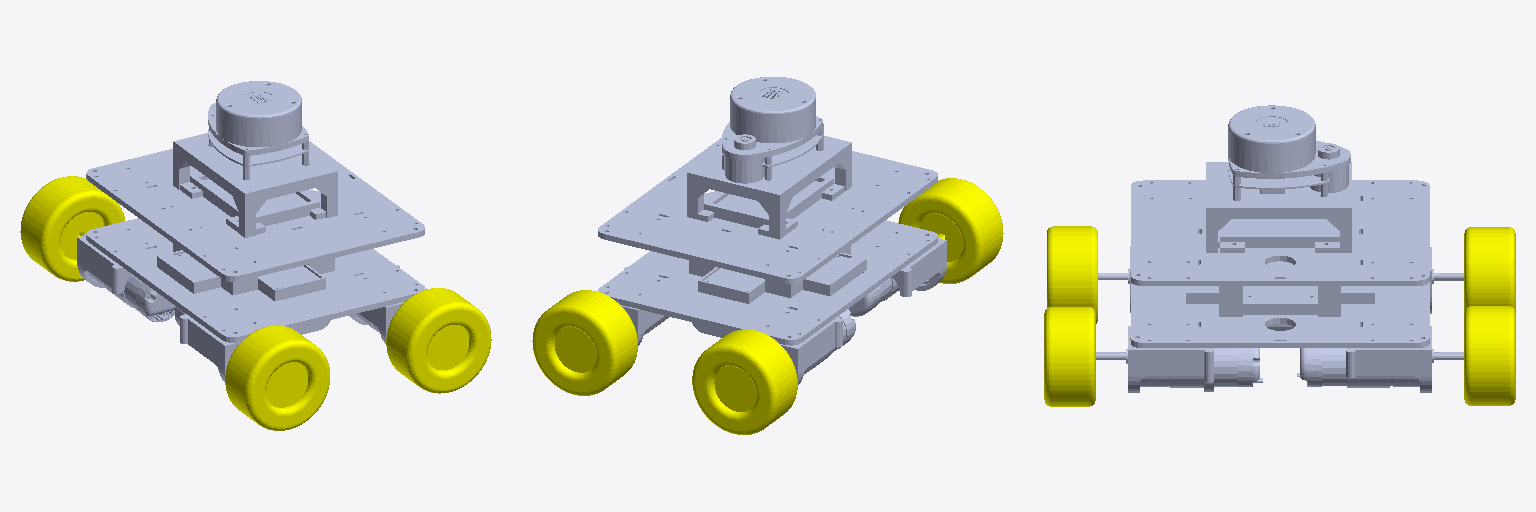
robot.urdf — assembliecarv2:
<?xml version="1.0" encoding="utf-8"?>
<!-- This URDF was automatically created by SolidWorks to URDF Exporter! Originally created by [author] ([email redacted])
     Commit Version: 1.6.0-4-g7f85cfe  Build Version: 1.6.7995.38578
     For more information, please see http://wiki.ros.org/sw_urdf_exporter -->
<robot
  name="assembliecarv2">
<link name="base_footprint">
    <visual>
        <origin xyz="0 0 0" rpy="0 0 0" />
        <geometry>
            <box size="0.001 0.001 0.001" />
        </geometry>
    </visual>
</link>

<joint name="base_footprint_joint" type="fixed">
    <origin xyz="0 0 0.001" rpy="0 0 0" />
    <parent link="base_footprint"/>
    <child link="base_link" />
</joint>
  <link
    name="base_link">
    <inertial>
      <origin
        xyz="-0.0857489441407666 0.120087688066747 0.0626062346225724"
        rpy="0 0 0" />
      <mass
        value="2.85737754623623" />
      <inertia
        ixx="0.00434208299750416"
        ixy="-7.26803903582795E-07"
        ixz="3.47982147594384E-06"
        iyy="0.00236576255288547"
        iyz="0.000157655614701443"
        izz="0.00606172623265241" />
    </inertial>
    <visual>
      <origin
        xyz="0 0 0"
        rpy="0 0 0" />
      <geometry>
        <mesh
          filename="package://auto-navigation/meshes/visual/base_link.STL" />
      </geometry>
      <material
        name="">
        <color
          rgba="0.792156862745098 0.819607843137255 0.933333333333333 1" />
      </material>
    </visual>
    <collision>
      <origin
        xyz="0 0 0"
        rpy="0 0 0" />
      <geometry>
        <mesh
          filename="package://auto-navigation/meshes/visual/base_link.STL" />
      </geometry>
    </collision>
  </link>
  <link
    name="Left_Forward">
    <inertial>
      <origin
        xyz="0 0.0144031841704055 -2.77555756156289E-17"
        rpy="0 0 0" />
      <mass
        value="0.184990436210963" />
      <inertia
        ixx="0.000100381923541725"
        ixy="-1.35134357100748E-20"
        ixz="1.51599028916486E-21"
        iyy="0.000156485635543517"
        iyz="-7.66772183917299E-21"
        izz="0.000100381923541725" />
    </inertial>
    <visual>
      <origin
        xyz="0 0 0"
        rpy="0 0 0" />
      <geometry>
        <mesh
          filename="package://auto-navigation/meshes/visual/Left_Forward.STL" />
      </geometry>
      <material
        name="">
        <color
          rgba="1 1 0 1" />
      </material>
    </visual>
    <collision>
      <origin
        xyz="0 0 0"
        rpy="0 0 0" />
      <geometry>
        <mesh
          filename="package://auto-navigation/meshes/visual/Left_Forward.STL" />
      </geometry>
    </collision>
  </link>
  <joint
    name="leftforwardjoint"
    type="continuous">
    <origin
      xyz="-0.160562309085206 -0.0611349396601898 -0.0207072509888525"
      rpy="0 0 0" />
    <parent
      link="base_link" />
    <child
      link="Left_Forward" />
    <axis
      xyz="0 -1 0" />
    <limit
      effort="10"
      velocity="10" />
    <dynamics
      damping="0.1"
      friction="0.1" />
  </joint>
  <link
    name="left_backward">
    <inertial>
      <origin
        xyz="0 0.0144031841704055 0"
        rpy="0 0 0" />
      <mass
        value="0.184990436210963" />
      <inertia
        ixx="0.000100381923541725"
        ixy="-1.01204186101483E-20"
        ixz="4.38911794701022E-21"
        iyy="0.000156485635543517"
        iyz="6.31917822478644E-21"
        izz="0.000100381923541725" />
    </inertial>
    <visual>
      <origin
        xyz="0 0 0"
        rpy="0 0 0" />
      <geometry>
        <mesh
          filename="package://auto-navigation/meshes/visual/left_backward.STL" />
      </geometry>
      <material
        name="">
        <color
          rgba="1 1 0 1" />
      </material>
    </visual>
    <collision>
      <origin
        xyz="0 0 0"
        rpy="0 0 0" />
      <geometry>
        <mesh
          filename="package://auto-navigation/meshes/visual/left_backward.STL" />
      </geometry>
    </collision>
  </link>
  <joint
    name="leftbackwardsjoint"
    type="continuous">
    <origin
      xyz="-0.00956288548173845 -0.0629588088173645 -0.0213964101615138"
      rpy="0 0 0" />
    <parent
      link="base_link" />
    <child
      link="left_backward" />
    <axis
      xyz="0 -1 0" />
    <limit
      effort="10"
      velocity="10" />
    <dynamics
      damping="0.1"
      friction="0.1" />
  </joint>
  <link
    name="Right_foward">
    <inertial>
      <origin
        xyz="2.77555756156289E-17 -0.0144031841704055 0"
        rpy="0 0 0" />
      <mass
        value="0.184990436210963" />
      <inertia
        ixx="0.000100381923541725"
        ixy="-1.03748690292408E-21"
        ixz="-8.15745284870943E-22"
        iyy="0.000156485635543517"
        iyz="-2.12037193304273E-21"
        izz="0.000100381923541725" />
    </inertial>
    <visual>
      <origin
        xyz="0 0 0"
        rpy="0 0 0" />
      <geometry>
        <mesh
          filename="package://auto-navigation/meshes/visual/Right_foward.STL" />
      </geometry>
      <material
        name="">
        <color
          rgba="1 1 0 1" />
      </material>
    </visual>
    <collision>
      <origin
        xyz="0 0 0"
        rpy="0 0 0" />
      <geometry>
        <mesh
          filename="package://auto-navigation/meshes/visual/Right_foward.STL" />
      </geometry>
    </collision>
  </link>
  <joint
    name="rightforwardjoint"
    type="continuous">
    <origin
      xyz="-0.160477801992672 0.302649086675045 -0.0213464101615145"
      rpy="0 0 0" />
    <parent
      link="base_link" />
    <child
      link="Right_foward" />
    <axis
      xyz="0 1 0" />
    <limit
      effort="10"
      velocity="10" />
    <dynamics
      damping="0.1"
      friction="0.1" />
  </joint>
  <link
    name="Right_backwards">
    <inertial>
      <origin
        xyz="0 -0.0144031841704055 0"
        rpy="0 0 0" />
      <mass
        value="0.184990436210963" />
      <inertia
        ixx="0.000100381923541725"
        ixy="-1.31820267136247E-20"
        ixz="1.17328307952698E-21"
        iyy="0.000156485635543517"
        iyz="6.40061732650818E-21"
        izz="0.000100381923541725" />
    </inertial>
    <visual>
      <origin
        xyz="0 0 0"
        rpy="0 0 0" />
      <geometry>
        <mesh
          filename="package://auto-navigation/meshes/visual/Right_backwards.STL" />
      </geometry>
      <material
        name="">
        <color
          rgba="1 1 0 1" />
      </material>
    </visual>
    <collision>
      <origin
        xyz="0 0 0"
        rpy="0 0 0" />
      <geometry>
        <mesh
          filename="package://auto-navigation/meshes/visual/Right_backwards.STL" />
      </geometry>
    </collision>
  </link>
  <joint
    name="rightbackwardsjoint"
    type="continuous">
    <origin
      xyz="-0.0102411478277296 0.302649086675045 -0.0211540758630961"
      rpy="0 0 0" />
    <parent
      link="base_link" />
    <child
      link="Right_backwards" />
    <axis
      xyz="0 1 0" />
    <limit
      effort="10"
      velocity="10" />
    <dynamics
      damping="0.1"
      friction="0.1" />
  </joint>
</robot>

--- Render facts (derived) ---
Views: 3 orthographic renders of the robot side by side, from view 1: azimuth 30°, elevation 25°; view 2: azimuth 150°, elevation 25°; view 3: azimuth 270°, elevation 25°.
Robot: assembliecarv2 — 6 links, 5 joints (4 continuous, 1 fixed); root link base_footprint; default pose: all joints at 0.
Links seen in each view (by area): view 1: base_link, left_backward, Left_Forward, Right_foward; view 2: base_link, Right_foward, Right_backwards, Left_Forward; view 3: base_link, left_backward, Right_backwards, Left_Forward, Right_foward.
Link boxes in pixels (bbox=[...]): base_link: bbox=[77, 81, 425, 381]; left_backward: bbox=[386, 288, 491, 393]; Left_Forward: bbox=[225, 325, 329, 430]; Right_foward: bbox=[20, 176, 124, 281]; base_link: bbox=[598, 77, 946, 384]; Right_foward: bbox=[692, 329, 797, 434]; Right_backwards: bbox=[532, 290, 637, 395]; Left_Forward: bbox=[898, 178, 1003, 283]; base_link: bbox=[1096, 105, 1463, 392]; left_backward: bbox=[1044, 307, 1095, 406]; Right_backwards: bbox=[1464, 306, 1515, 405]; Left_Forward: bbox=[1047, 226, 1097, 323]; Right_foward: bbox=[1464, 227, 1515, 311].
Bounding box of the posed robot: 0.231 × 0.3776 × 0.2111 m (x, y, z).
Meshes: 5 distinct files referenced, 5 mesh visuals loaded (5 binary STL).